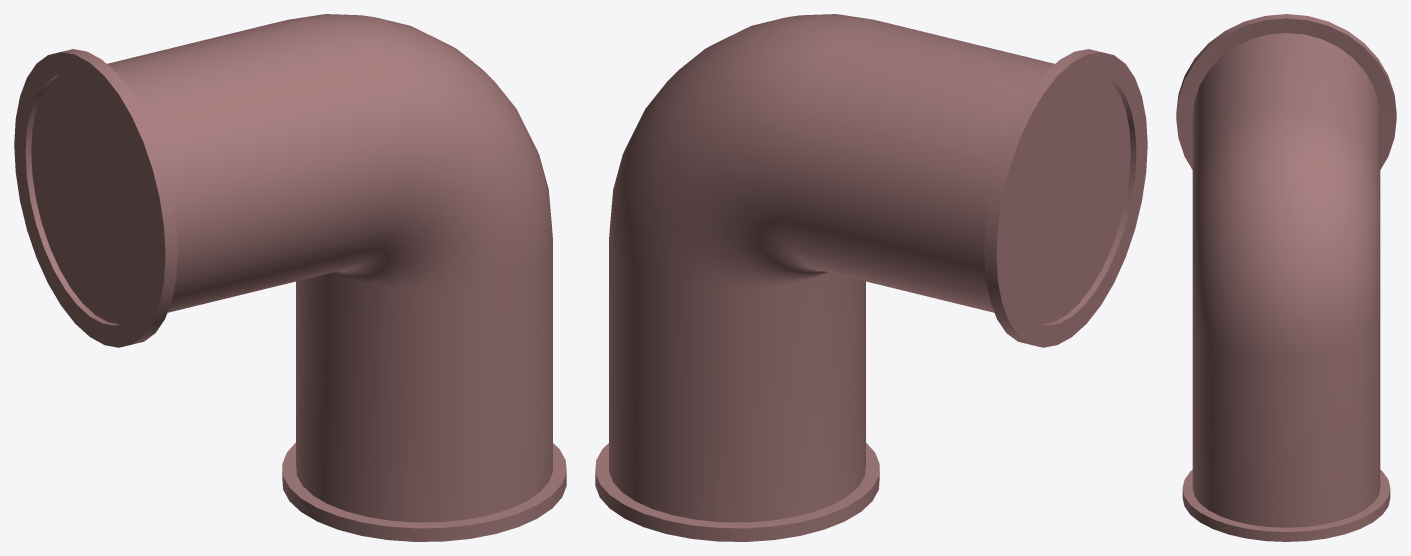
File: pipes3.fbx
3 renders of one model, left to right at view 1: azimuth 30°, elevation 25°; view 2: azimuth 150°, elevation 25°; view 3: azimuth 270°, elevation 25°, orthographic. The views are drawn at different scales.
Parts seen in each view (by area): view 1: Cylinder.003; view 2: Cylinder.003; view 3: Cylinder.003.
Part boxes in pixels (box(x1,y1,x2,y2)): Cylinder.003: box(14, 14, 566, 541); Cylinder.003: box(595, 14, 1147, 541); Cylinder.003: box(1176, 14, 1396, 541).
Size of the model in its own units: 411 by 429 by 235.
